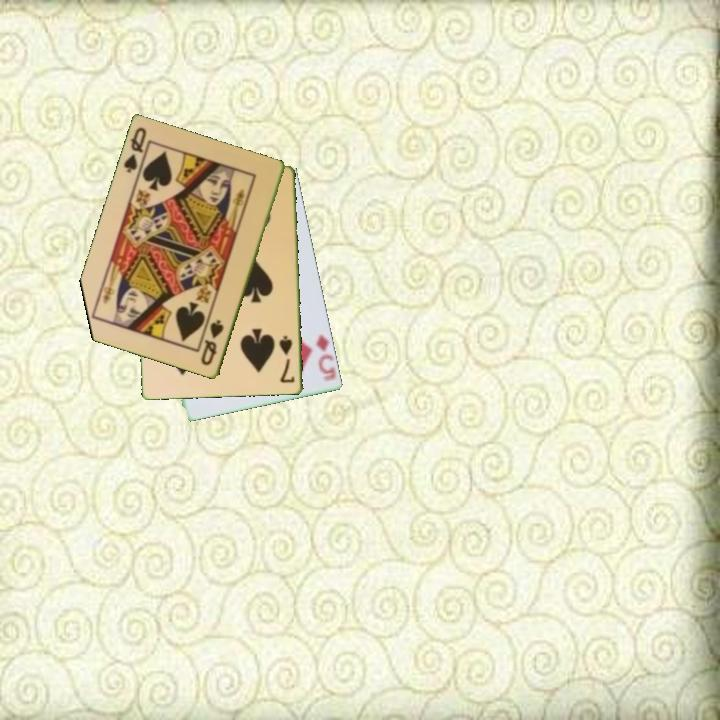5d: (313, 331, 339, 384)
7s: (276, 333, 298, 386)
Qs: (198, 316, 227, 369), (120, 124, 149, 176)
